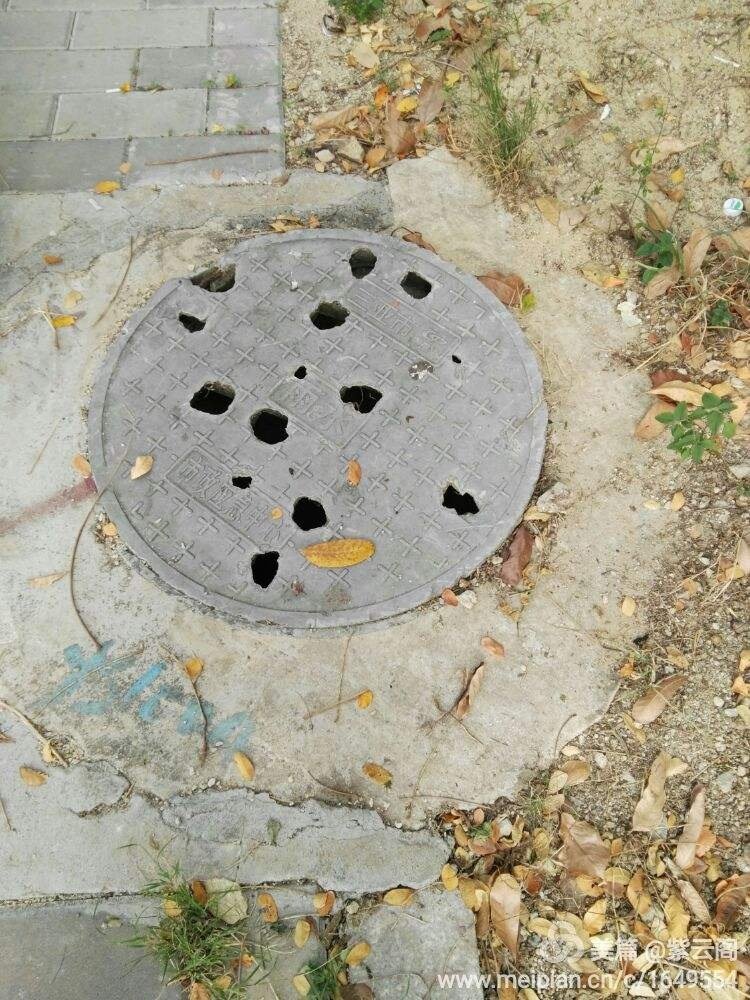broke: (82, 224, 548, 626)
